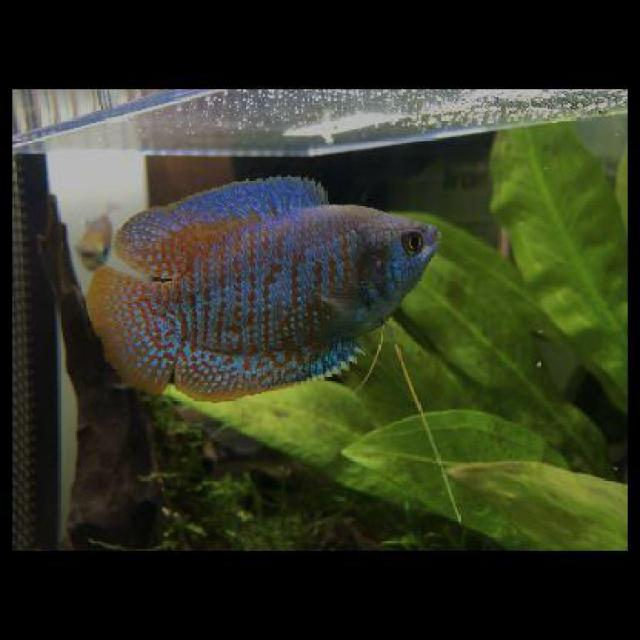Gourami: (86, 173, 440, 402)
